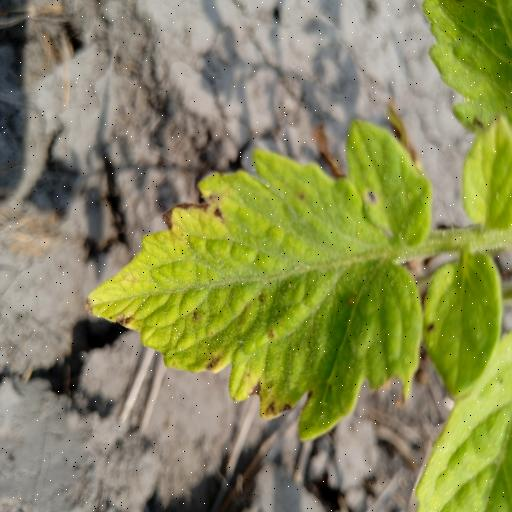Tomato_Brown_Spots: (81, 117, 440, 444)
